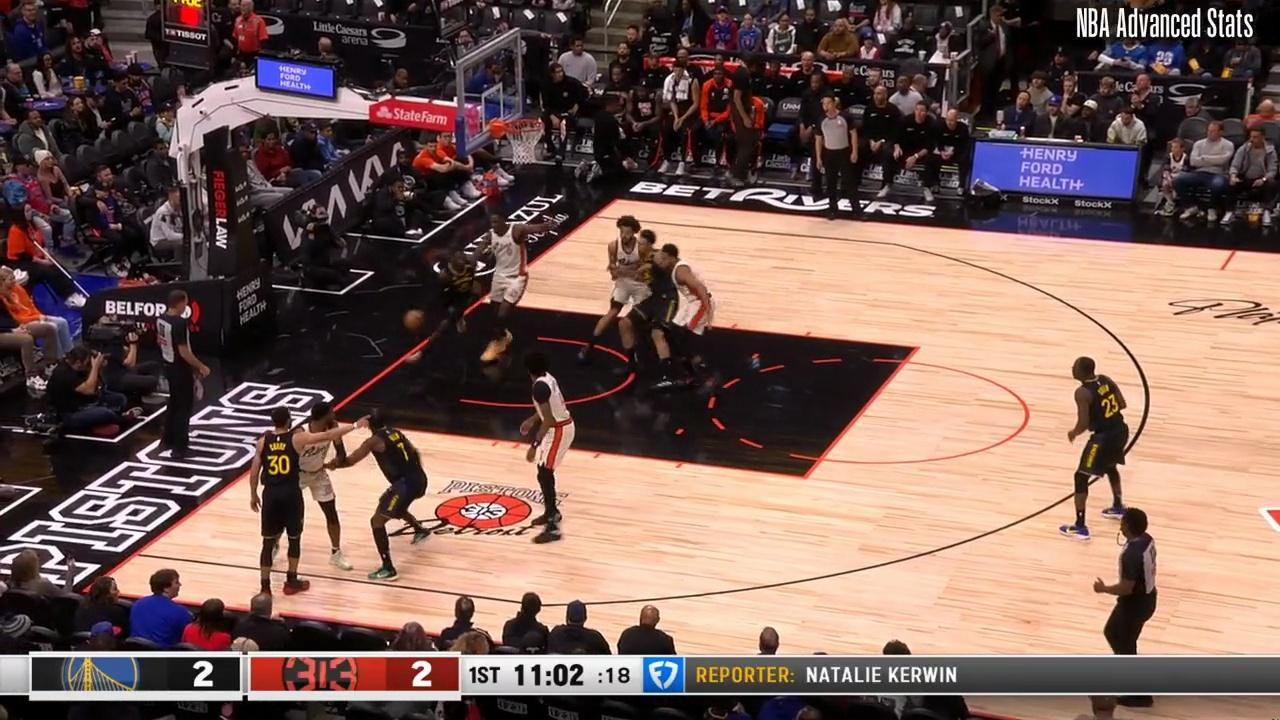basketball: (401, 310, 427, 330)
